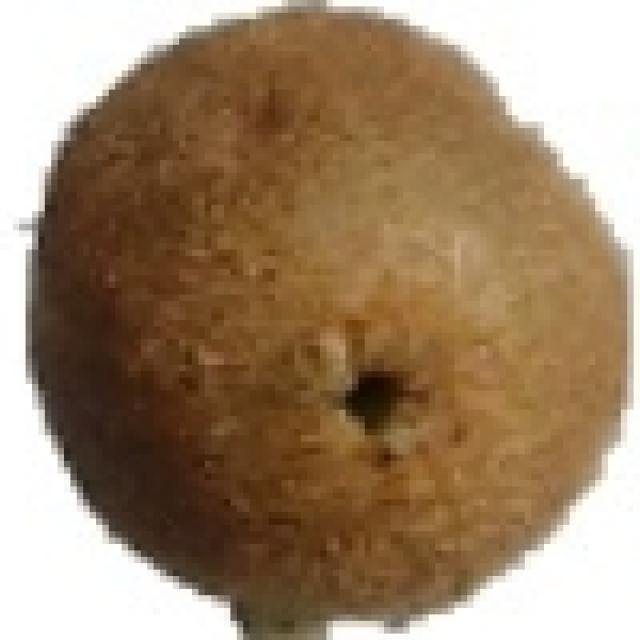kiwi: (21, 13, 626, 636)
